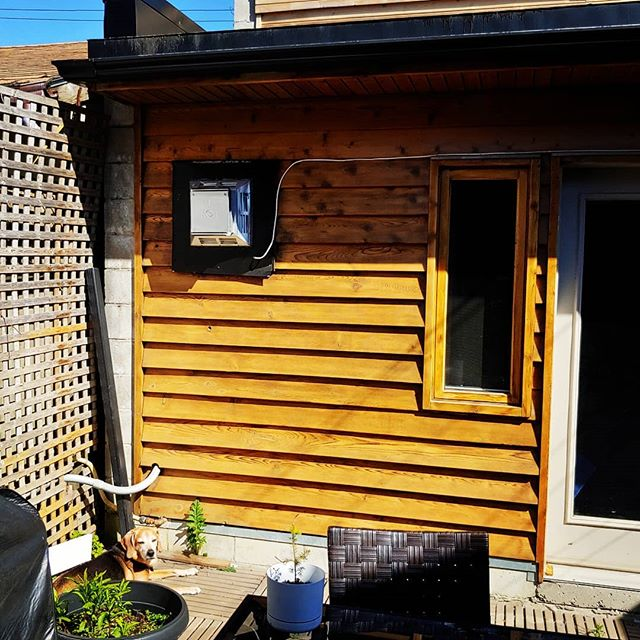animal: (52, 528, 183, 587)
building: (94, 27, 640, 617)
door: (542, 185, 640, 590)
